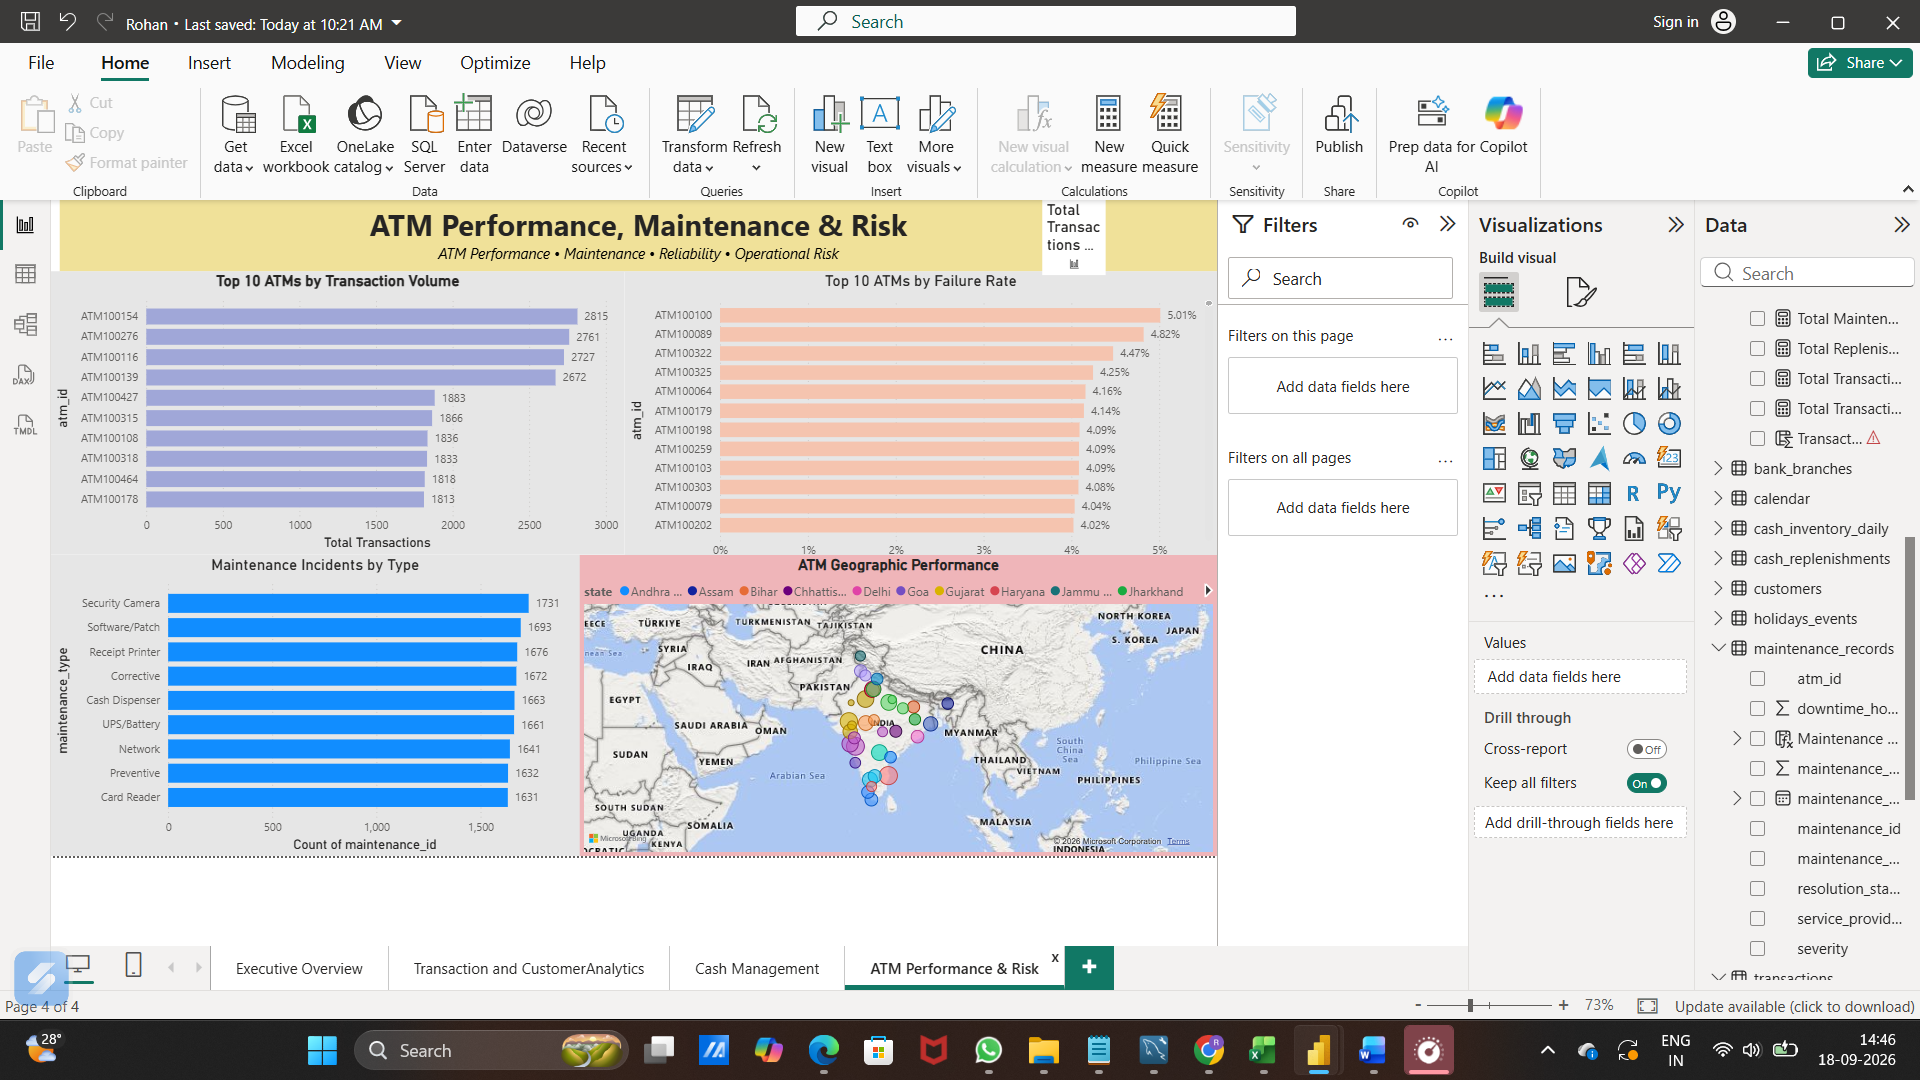

The dashboard page shown, as its layout file describes it:
{"tool":"powerbi","page":{"name":"ATM Performance & Risk","canvas":[1280,720],"ordinal":3},"visuals":[{"type":"textbox","box":[9.8,0,1270.5,78.3],"z":0},{"type":"clusteredBarChart","title":"Top 10 ATMs by Transaction Volume","fields":{"Category":["transactions.atm_id"],"Y":["atm_locations.Total Transactions"]},"box":[0,78.2,629.8,311.5],"z":1},{"type":"clusteredBarChart","title":"Top 10 ATMs by Failure Rate","fields":{"Y":["atm_locations.Failed Transaction Rate"],"Category":["transactions.atm_id"]},"box":[629.8,78.2,650.4,338.9],"z":2},{"type":"clusteredBarChart","title":"Maintenance Incidents by Type","fields":{"Category":["maintenance_records.maintenance_type"],"Y":["CountNonNull(maintenance_records.maintenance_id)"]},"box":[0,389.7,580.4,330.7],"z":3},{"type":"clusteredBarChart","fields":{"Category":["atm_locations.state"],"Y":["atm_locations.Total Transactions"]},"box":[1267.9,0,12.3,19.2],"z":4},{"type":"map","title":"ATM Geographic Performance","fields":{"Category":["atm_locations.city"],"Size":["atm_locations.Total Transactions"],"Series":["atm_locations.state"]},"box":[580.4,389.7,699.8,330.7],"z":5}]}

Visuals, with their boxes on the page's 1280x720 design canvas (x1, y1, x2, y2). These are canvas units, not pixel positions in the 1920x1080 screenshot, which may show the page scaled, cropped or inside an application window:
textbox: (10,0,1280,78)
"Top 10 ATMs by Transaction Volume" clusteredBarChart: (0,78,630,390)
"Top 10 ATMs by Failure Rate" clusteredBarChart: (630,78,1280,417)
"Maintenance Incidents by Type" clusteredBarChart: (0,390,580,720)
clusteredBarChart - atm_locations.state x atm_locations.Total Transactions: (1268,0,1280,19)
"ATM Geographic Performance" map: (580,390,1280,720)
